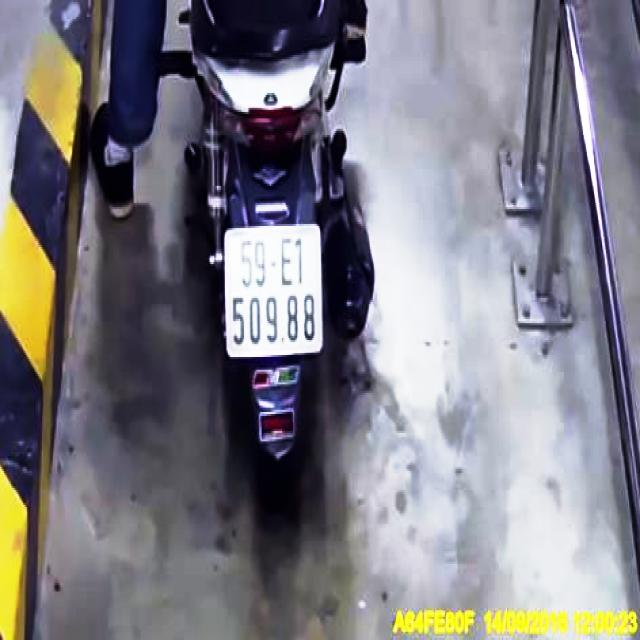license_plate: (227, 228, 326, 359)
